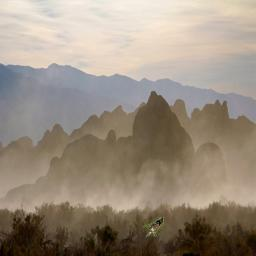Swallow: (142, 217, 164, 237)
